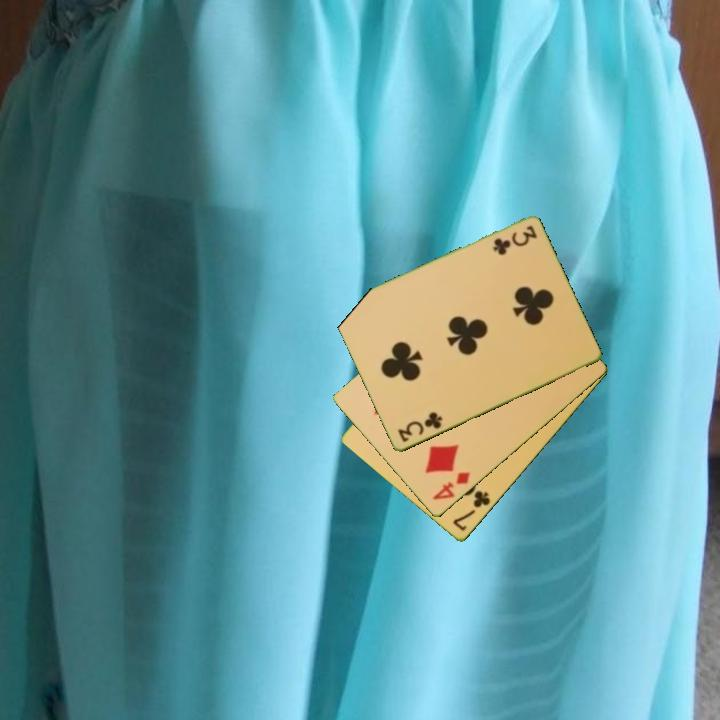3c: (394, 408, 446, 445), (489, 222, 540, 258)
4d: (429, 469, 473, 503)
7c: (449, 487, 493, 535)
